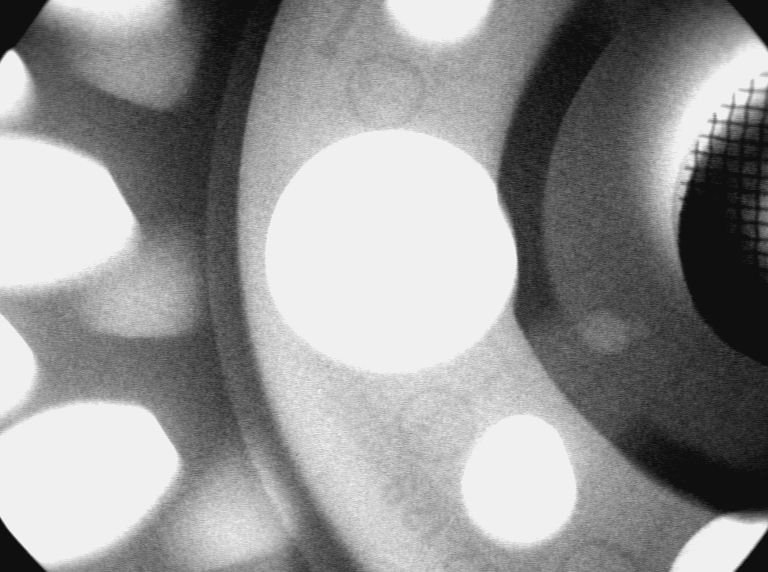defect: (577, 306, 654, 360)
